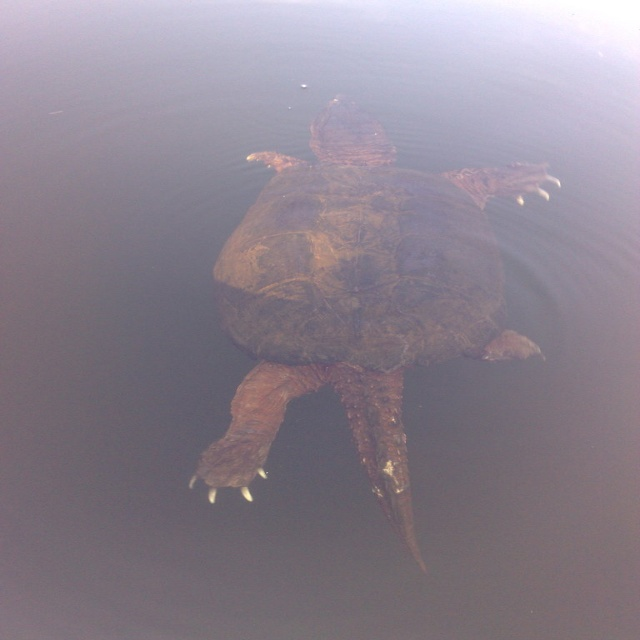Sea turtle: (173, 80, 576, 582)
